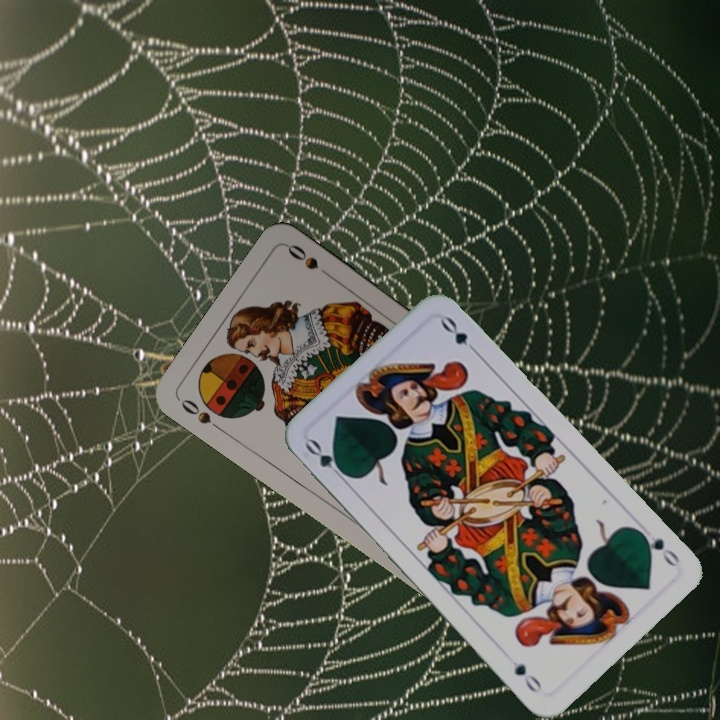GO: (301, 435, 352, 484), (634, 525, 683, 570)
SO: (177, 395, 226, 435)
